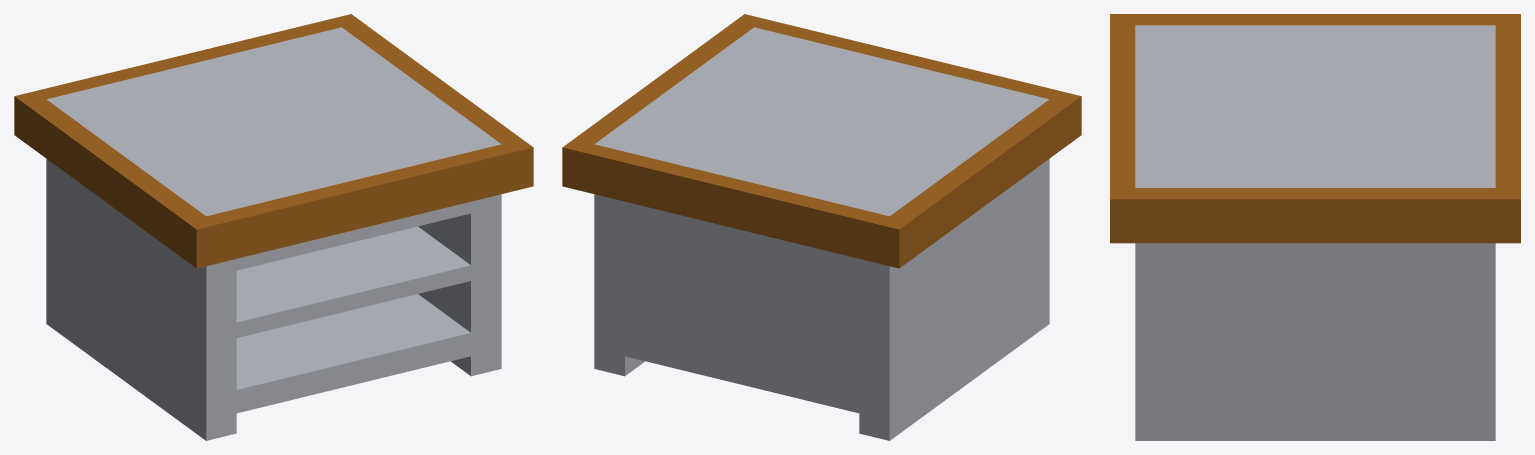
Rendered from base_top.fbx.
3 renders of one model, left to right at view 1: azimuth 30°, elevation 25°; view 2: azimuth 150°, elevation 25°; view 3: azimuth 270°, elevation 25°, orthographic. The views are drawn at different scales.
Visible parts, largest first — view 1: base_top; view 2: base_top; view 3: base_top.
Part boxes in pixels (x1,y1,x2,y2): base_top: [14, 14, 533, 440]; base_top: [562, 14, 1081, 440]; base_top: [1110, 14, 1520, 440].
Bounding box in the file's own units: 158 × 101 × 148.
